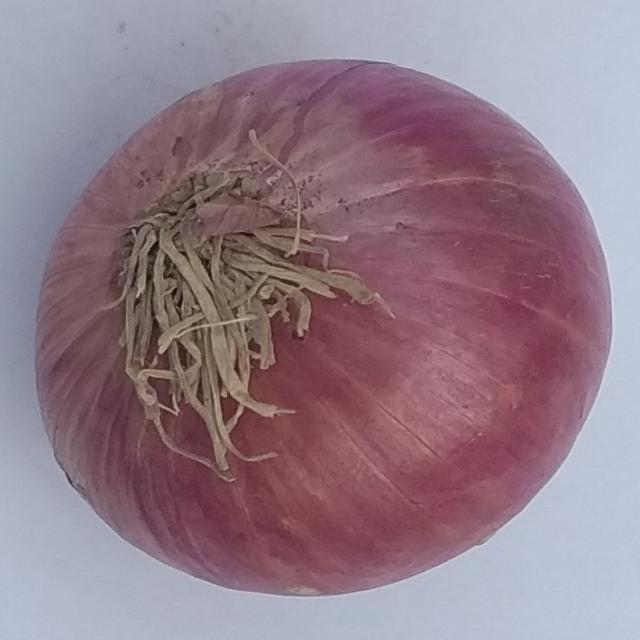onion: (35, 56, 616, 600)
